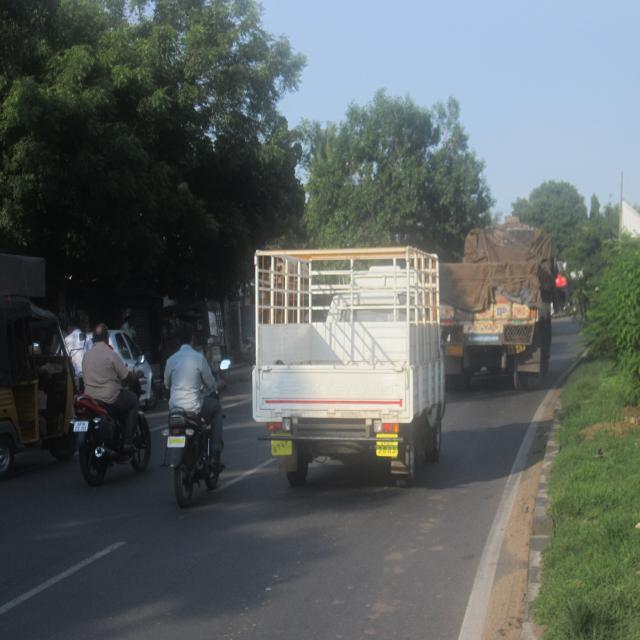truck_back: (250, 243, 454, 498), (427, 216, 555, 398)
two_wheeler_back: (67, 348, 151, 488), (158, 357, 232, 511)
